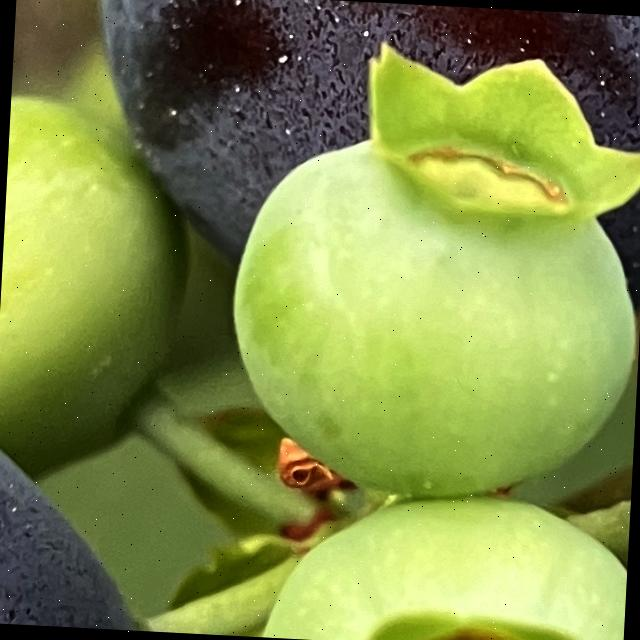Blueberries: (201, 18, 640, 519)
